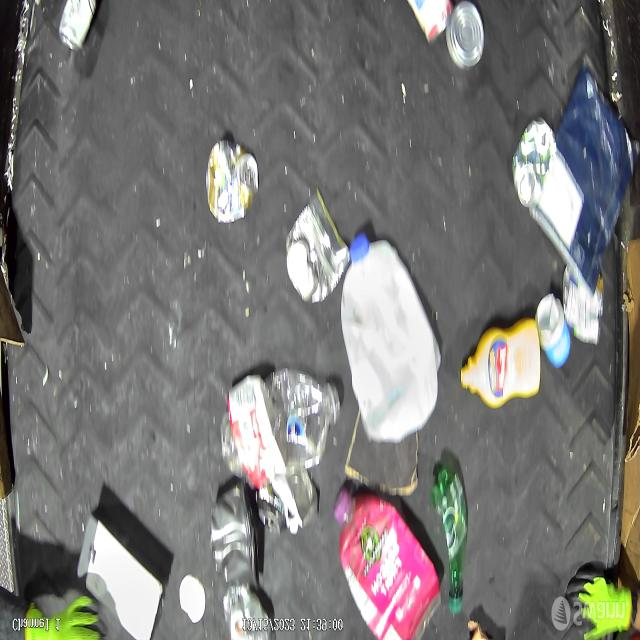can: (285, 186, 352, 305), (205, 137, 259, 225), (256, 468, 320, 539), (511, 115, 558, 211), (562, 261, 606, 348), (446, 0, 486, 72), (534, 292, 570, 372), (406, 0, 454, 48), (58, 0, 98, 56)
milk_jug: (340, 231, 442, 446)
plastic_bottle: (220, 366, 342, 489)
